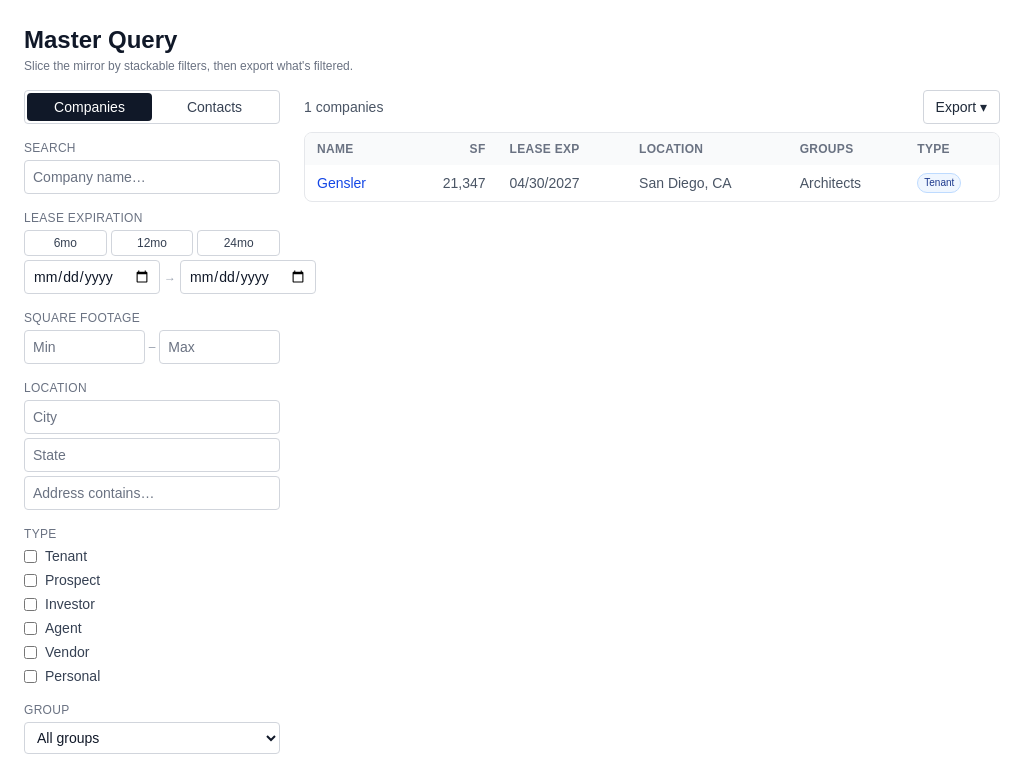
Test: Master Query page › applying a city filter shows a chip and forwards it; clearing the chip removes it
The image size is (1024, 768).
Expected: the link "Gensler" is shown, [317,175,366,191]
Type "San Diego" into the field with placeholder "City" at (152, 417), box [24,400,280,434]
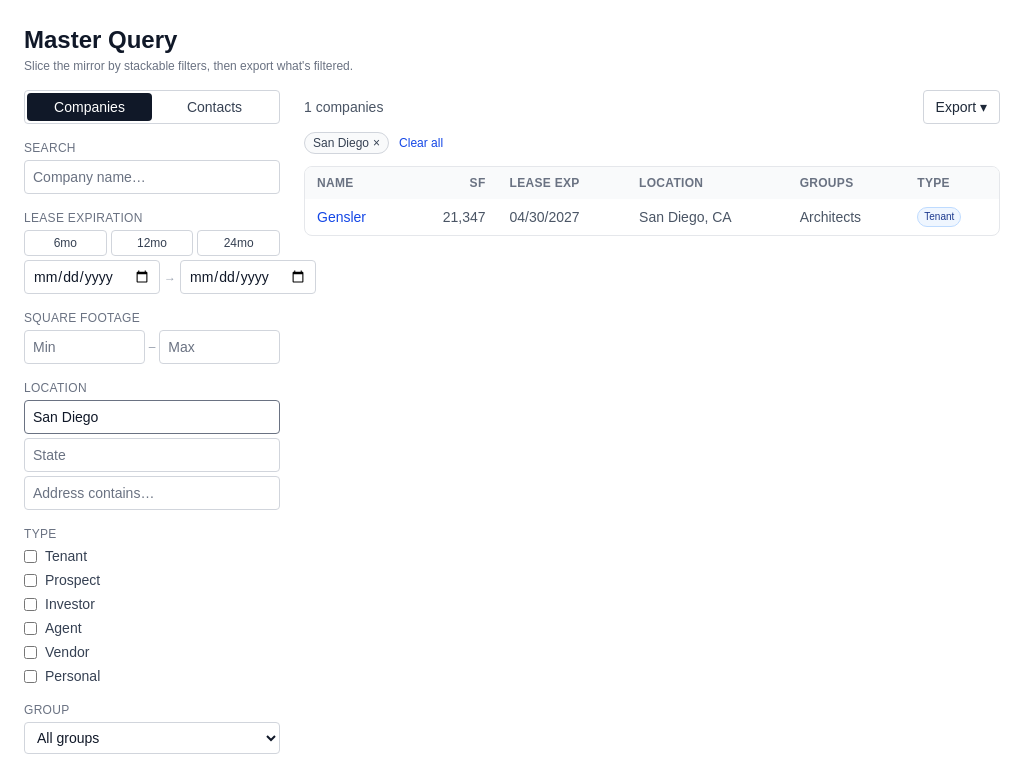
Expected: the button "San Diego ×" is shown
Click the button "San Diego ×" at (347, 143), box [304,132,389,154]
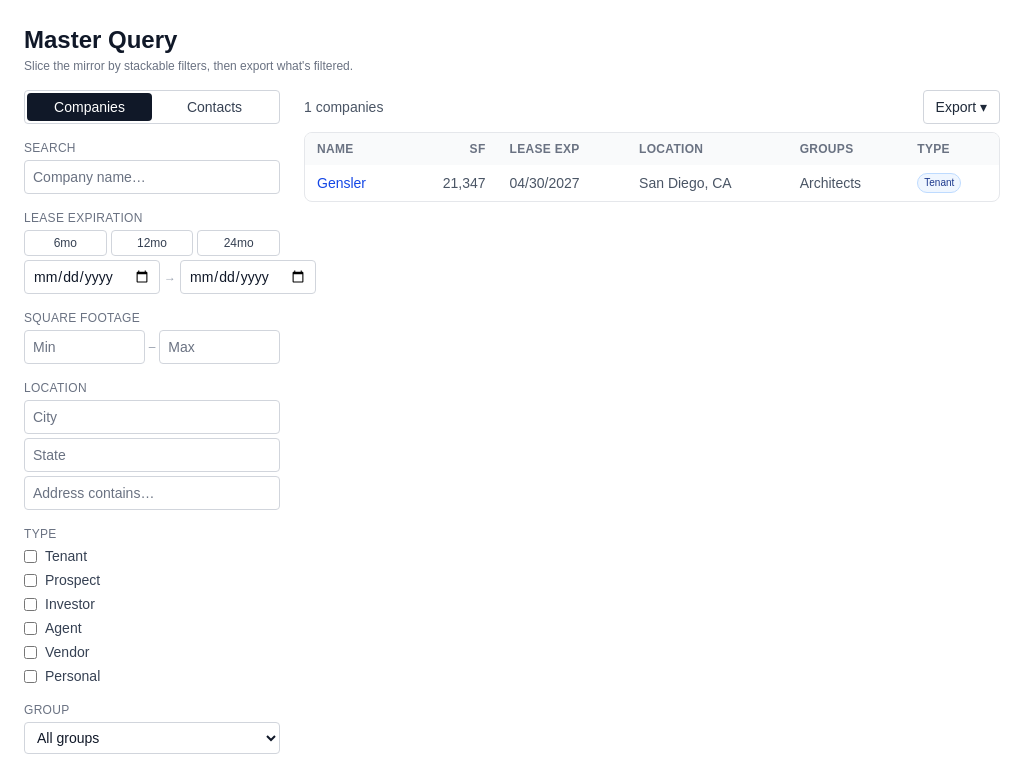
Expected: the field with placeholder "City" is empty, [24,400,280,434]
